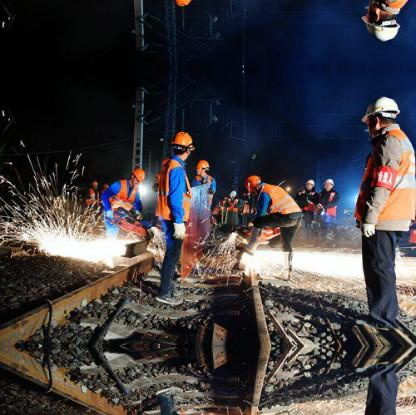Safety Helmet: (354, 91, 412, 140), (356, 1, 407, 47), (168, 128, 195, 163), (240, 172, 266, 196), (125, 163, 147, 188), (193, 155, 211, 177), (322, 178, 341, 191)
